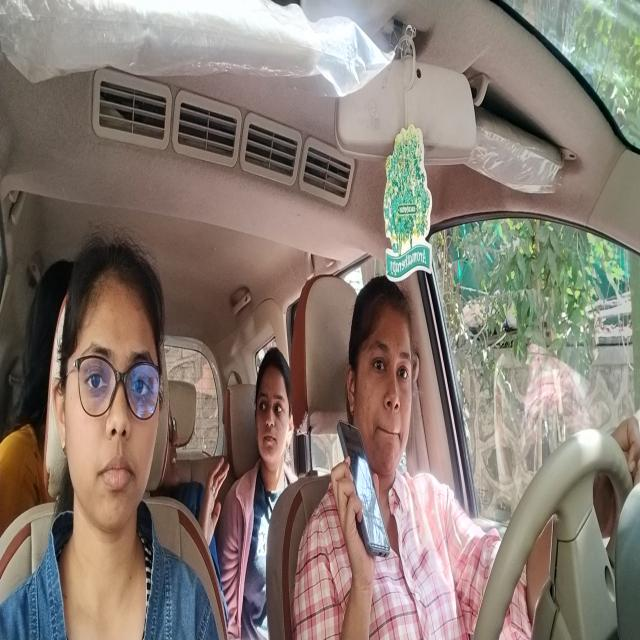mobile: (333, 412, 393, 563)
person: (68, 248, 159, 530), (348, 288, 413, 474), (255, 345, 291, 469), (27, 288, 48, 494), (163, 412, 188, 490)
